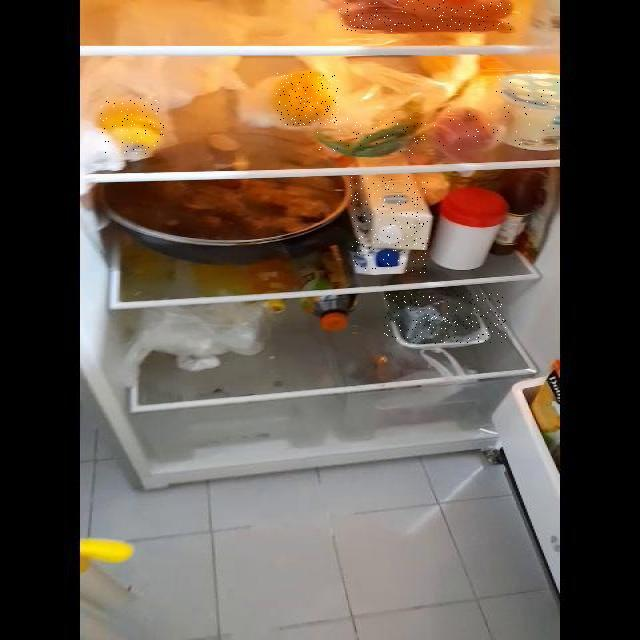broccoli: (384, 293, 506, 344)
carrot: (339, 0, 513, 32)
green chilies: (312, 115, 426, 158)
lemon: (100, 96, 164, 154), (276, 72, 339, 125)
milk: (351, 176, 428, 273)
tomato: (434, 111, 498, 150)
yoghurt: (496, 71, 558, 151)
